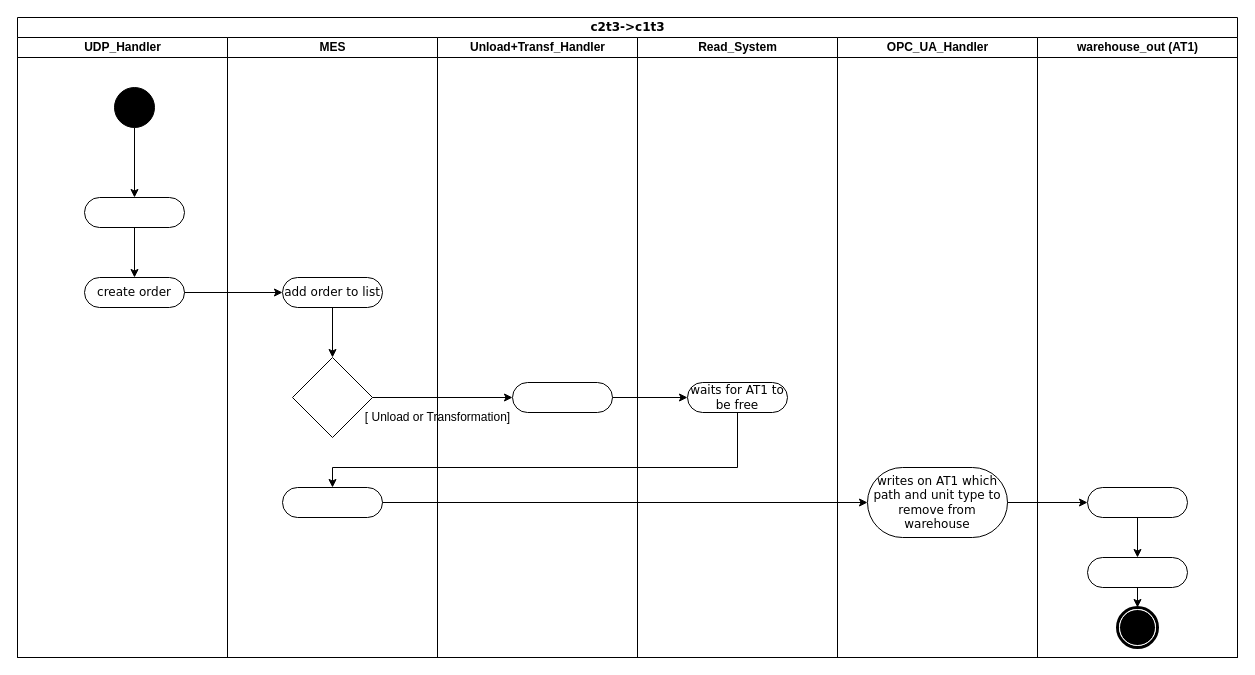
Image size: 1255x675. Some labels were removed from this diagram. Each missing label, with the centre of its shape:
calculates path to order: point (562, 397)
request from ERP arrives: point (134, 212)
send unit to next conveyor: point (1137, 572)
triggers order execution: point (332, 502)
verifications: point (1137, 502)
